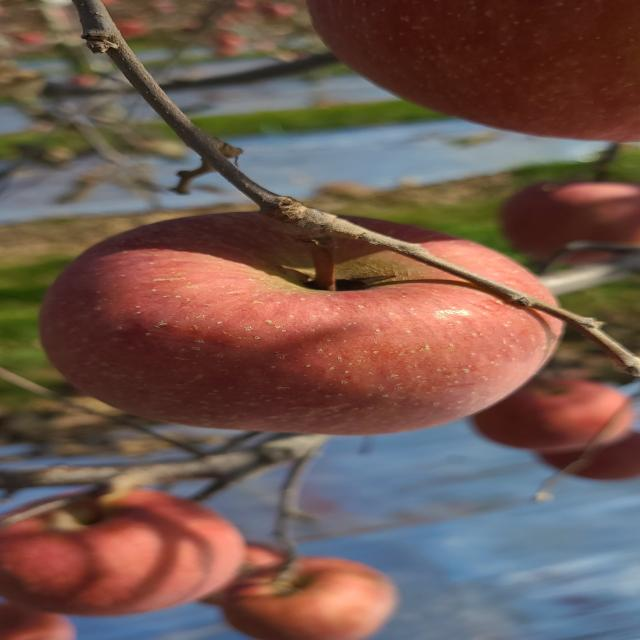fresh: (19, 203, 580, 447)
